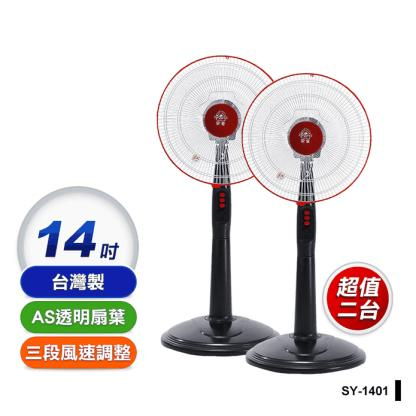fan: (230, 67, 383, 381), (149, 38, 279, 358)
